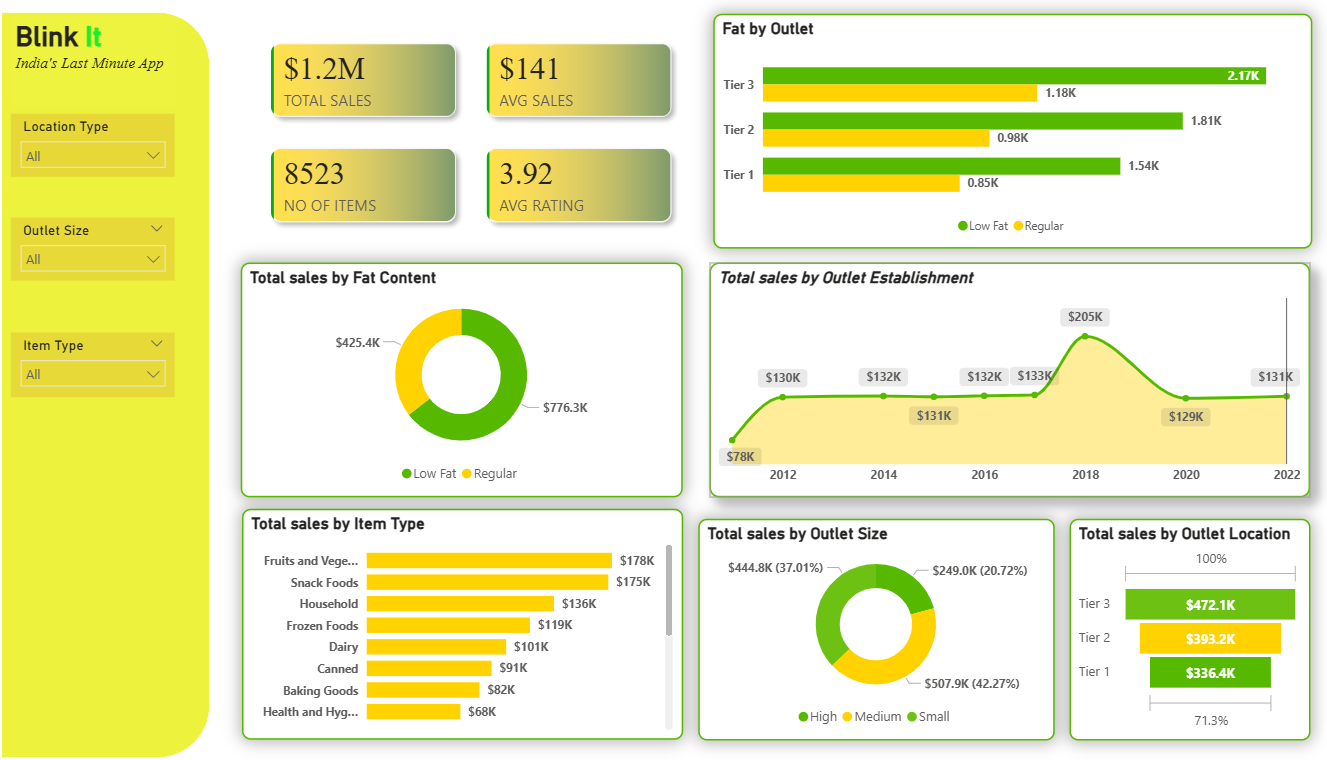

This screenshot's page, from the dashboard's own definition file:
{"tool":"powerbi","page":{"name":"Page 1","canvas":[1400,800],"ordinal":0},"visuals":[{"type":"shape","box":[10,17.5,215.4,774],"z":0},{"type":"textbox","box":[19.2,20.6,171.5,94.7],"z":1000},{"type":"textbox","box":[19.2,57.6,171.5,57.6],"z":2000},{"type":"cardVisual","fields":{"Data":["BlinkIT Grocery Data.Total sales","BlinkIT Grocery Data.Avg sales","BlinkIT Grocery Data.No of item","BlinkIT Grocery Data.Avg rating"]},"box":[260.9,20.4,474.2,244.6],"z":3000},{"type":"barChart","fields":{"Category":["BlinkIT Grocery Data.Item Type"],"Y":["BlinkIT Grocery Data.Total sales"]},"box":[260,534,458,240],"z":4000},{"type":"donutChart","title":"Total sales by Fat Content","fields":{"Category":["BlinkIT Grocery Data.Item Fat Content"],"Y":["BlinkIT Grocery Data.Total sales"]},"box":[258.2,277.9,458.8,243.8],"z":5000},{"type":"clusteredBarChart","title":"Fat by Outlet","fields":{"Category":["BlinkIT Grocery Data.Outlet Location Type"],"Series":["BlinkIT Grocery Data.Item Fat Content"],"Y":["CountNonNull(BlinkIT Grocery Data.Item Fat Content)"]},"box":[748.9,20,622.4,244.2],"z":6000},{"type":"lineChart","title":"Total sales by Outlet Establishment ","fields":{"Y":["BlinkIT Grocery Data.Total sales"],"Category":["BlinkIT Grocery Data.Outlet Establishment Year"]},"box":[746,278,624,244],"z":7000},{"type":"donutChart","fields":{"Y":["BlinkIT Grocery Data.Total sales"],"Series":["BlinkIT Grocery Data.Outlet Size"]},"box":[734,544,370,230],"z":8000},{"type":"funnel","fields":{"Y":["BlinkIT Grocery Data.Total sales"],"Category":["BlinkIT Grocery Data.Outlet Location Type"]},"box":[1120,544,250,230],"z":9000},{"type":"slicer","fields":{"Values":["BlinkIT Grocery Data.Outlet Location Type"]},"box":[20,123.2,170.5,65.3],"z":10000},{"type":"slicer","fields":{"Values":["BlinkIT Grocery Data.Outlet Size"]},"box":[20,231.6,170.5,65.3],"z":11000},{"type":"slicer","fields":{"Values":["BlinkIT Grocery Data.Item Type"]},"box":[20,350.5,170.5,67.4],"z":12000}]}

Visuals, with their boxes in screenshot pixels (x1, y1, x2, y2), scaled from the page's 1400x800 canvas onto the 1327x760 screenshot:
shape: l=9, t=17, r=214, b=752
textbox: l=18, t=20, r=181, b=110
textbox: l=18, t=55, r=181, b=109
cardVisual - BlinkIT Grocery Data.Total sales x BlinkIT Grocery Data.Avg sales: l=247, t=19, r=697, b=252
barChart - BlinkIT Grocery Data.Item Type x BlinkIT Grocery Data.Total sales: l=246, t=507, r=681, b=735
"Total sales by Fat Content" donutChart: l=245, t=264, r=680, b=496
"Fat by Outlet" clusteredBarChart: l=710, t=19, r=1300, b=251
"Total sales by Outlet Establishment " lineChart: l=707, t=264, r=1299, b=496
donutChart - BlinkIT Grocery Data.Total sales x BlinkIT Grocery Data.Outlet Size: l=696, t=517, r=1046, b=735
funnel - BlinkIT Grocery Data.Total sales x BlinkIT Grocery Data.Outlet Location Type: l=1062, t=517, r=1299, b=735
slicer - BlinkIT Grocery Data.Outlet Location Type: l=19, t=117, r=181, b=179
slicer - BlinkIT Grocery Data.Outlet Size: l=19, t=220, r=181, b=282
slicer - BlinkIT Grocery Data.Item Type: l=19, t=333, r=181, b=397
